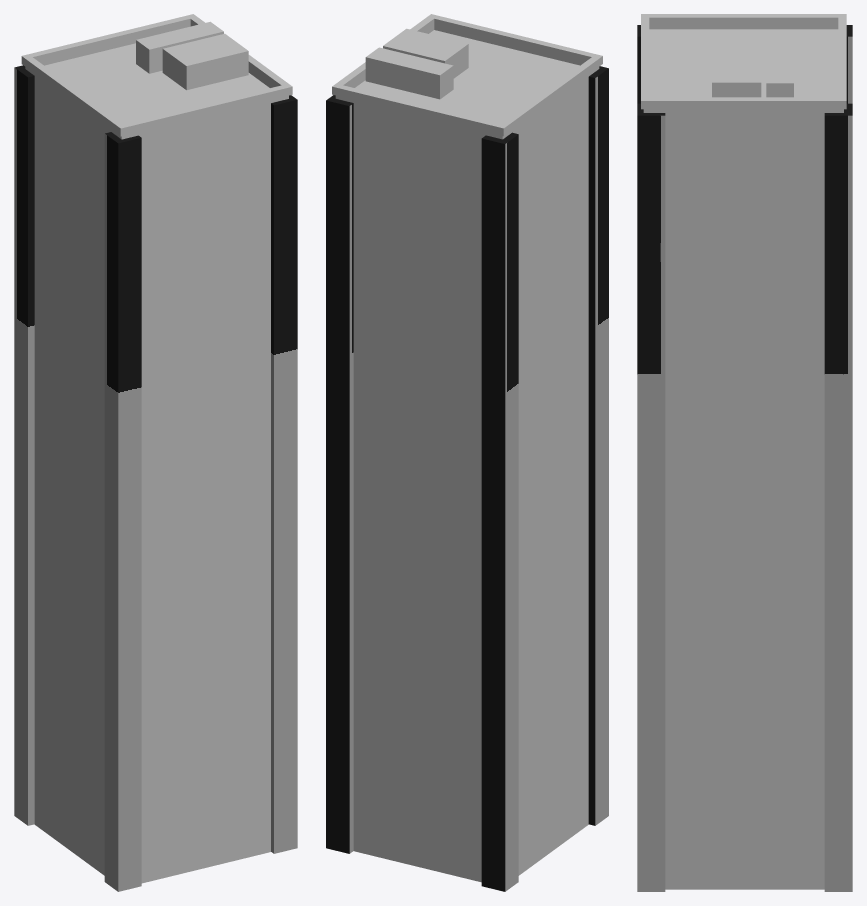
Rendered from Skyscraper1.fbx.
3 renders of one model, left to right at view 1: azimuth 30°, elevation 25°; view 2: azimuth 150°, elevation 25°; view 3: azimuth 270°, elevation 25°, orthographic. The views are drawn at different scales.
Parts seen in each view (by area): view 1: pCube289; view 2: pCube289; view 3: pCube289.
Boxes of the visible parts, x1,y1,x2,y2 form: pCube289: [14, 14, 297, 891]; pCube289: [326, 14, 608, 891]; pCube289: [637, 14, 852, 891].
Bounding box in the file's own units: 3283 × 13553 × 3293.
